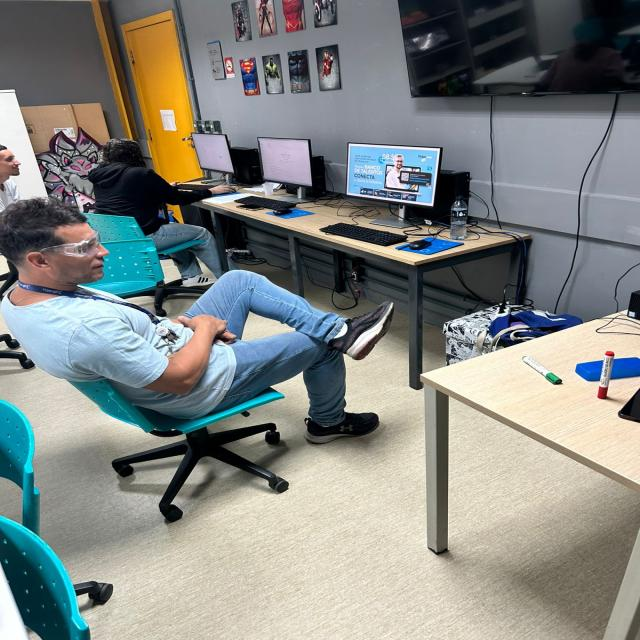oculos-epi: (35, 230, 101, 257)
